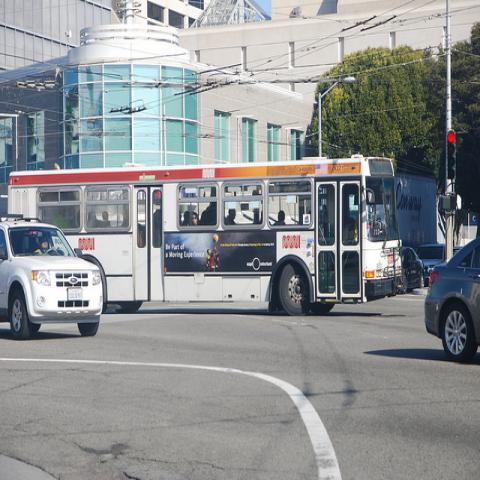bus: (8, 158, 407, 315)
car: (3, 221, 101, 341), (424, 239, 480, 364), (401, 247, 425, 294), (415, 244, 446, 280)
